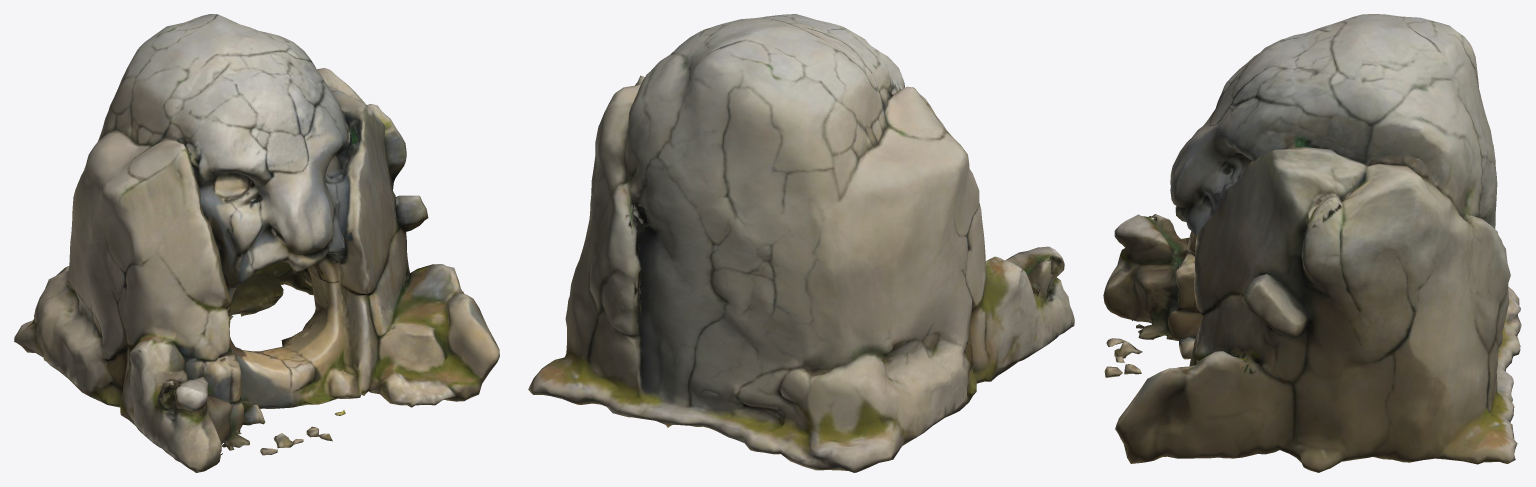
The model's file is a_tunnel_that_goes_th_0610151403_texture.fbx.
3 views of the same model, side by side, from view 1: azimuth 30°, elevation 25°; view 2: azimuth 150°, elevation 25°; view 3: azimuth 270°, elevation 25° (orthographic). The views are drawn at different scales.
Visible parts, largest first — view 1: Mesh1; view 2: Mesh1; view 3: Mesh1.
Boxes of the visible parts, left/top/right/bottom form: Mesh1: left=14, top=14, right=499, bottom=472; Mesh1: left=528, top=14, right=1074, bottom=472; Mesh1: left=1103, top=14, right=1521, bottom=472.
Size of the model in its own units: 200 by 192 by 199.
1 material, 1 textured.
